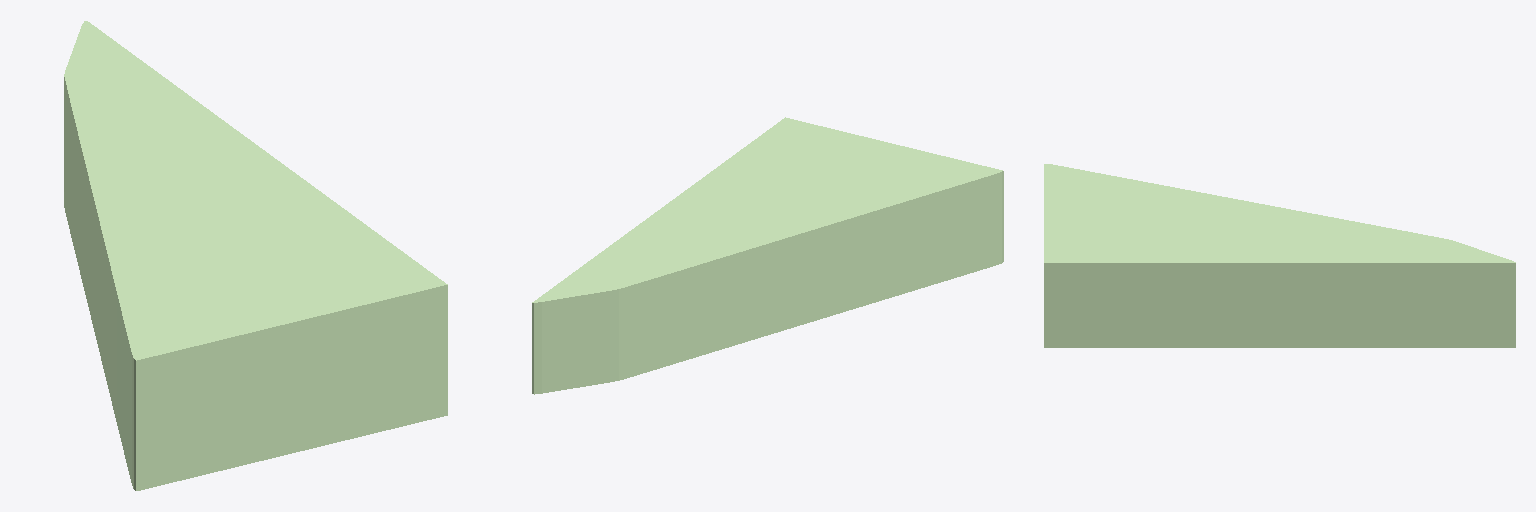
The robot description file, URDF, robot "convex_mesh":
<?xml version="1.0"?>
    <robot name="convex_mesh">
    <link name="base_link">
        <!-- Visual Representation -->
        <visual>
            <geometry>
                <mesh filename="polygon_3.obj" scale="1 1 1"/>
            </geometry>
            <material name="custom_color">
                <color rgba="0.8700121482468192 0.978618342232764 0.7991585642167236 1.0"/>
            </material>
        </visual>

        <!-- Collision Geometry -->
        <collision>
            <geometry>
                <mesh filename="polygon_3.obj" scale="1 1 1"/>
            </geometry>
        </collision>

        <!-- Inertial Properties -->
        <inertial>
            <mass value="1.0"/>
            <origin xyz="0.07179989658737583 -0.035198151495368014 0.015000000000000005"/>
            <inertia ixx="0.01" ixy="0.0" ixz="0.0"
                    iyy="0.01" iyz="0.0"
                    izz="0.01"/>
        </inertial>
    </link>
    </robot>

--- What the picture shows (computed from the rendered views, not written in the file) ---
3 views of the same robot in one strip: view 1: azimuth 30°, elevation 25°; view 2: azimuth 150°, elevation 25°; view 3: azimuth 270°, elevation 25° (orthographic).
Model convex_mesh with 1 links and 0 joints (none), rooted at base_link, posed all joints at 0.
Visible links, largest first — view 1: base_link; view 2: base_link; view 3: base_link.
Boxes of the visible links, box(x1,y1,x2,y2) form: base_link: box(64, 21, 447, 490); base_link: box(532, 117, 1003, 394); base_link: box(1044, 164, 1515, 347).
Size in the robot's own frame: 0.0769 by 0.1543 by 0.0309 metres.
1 mesh visuals loaded from 1 distinct referenced files (1 OBJ).